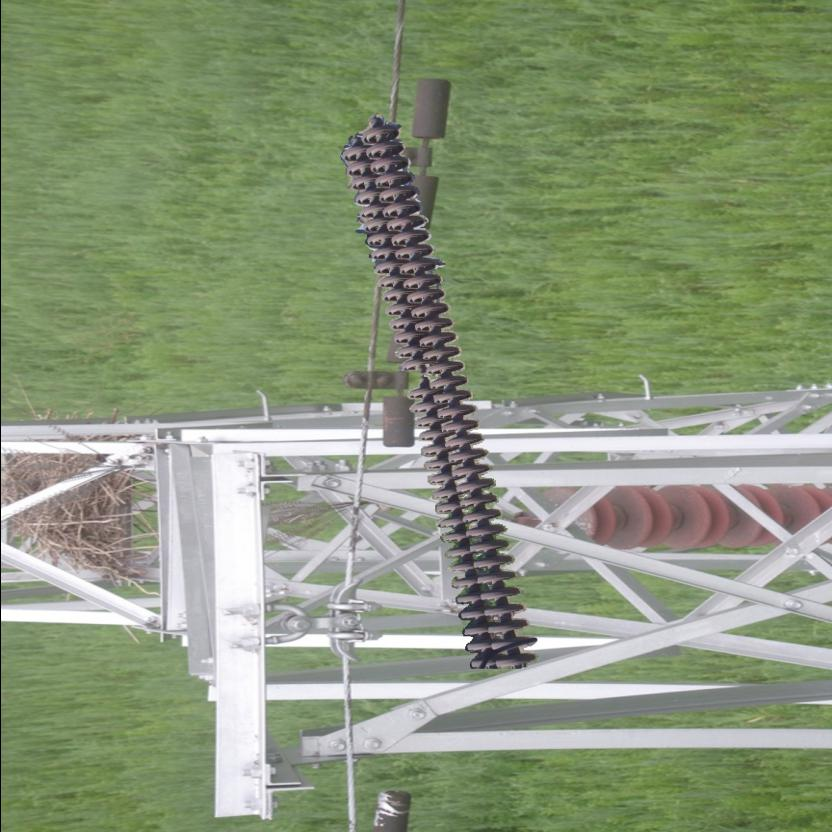defect: (392, 355, 432, 403)
